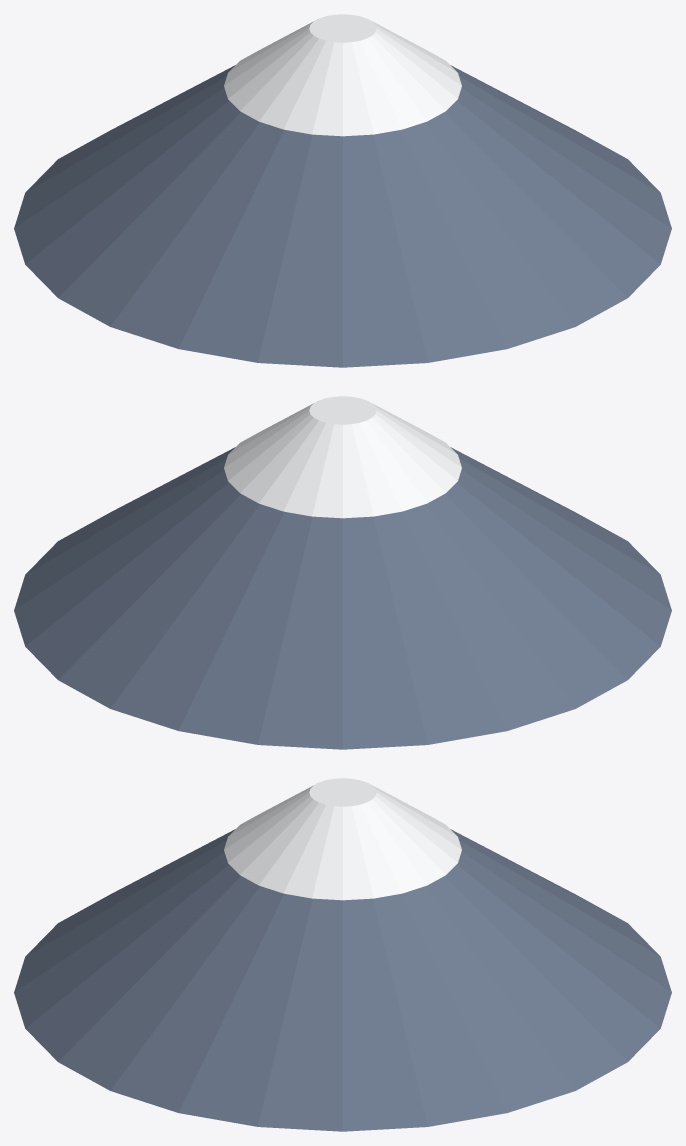
File: japan.glb
The picture shows the model from 3 angles, top to bottom: view 1: azimuth 30°, elevation 25°; view 2: azimuth 150°, elevation 25°; view 3: azimuth 270°, elevation 25°; orthographic projection.
Parts seen in each view (by area): view 1: Mountain, SnowCap; view 2: Mountain, SnowCap; view 3: Mountain, SnowCap.
Boxes of the visible parts, x1,y1,x2,y2 form: Mountain: [14, 65, 671, 367]; SnowCap: [224, 14, 461, 136]; Mountain: [14, 447, 671, 749]; SnowCap: [224, 396, 461, 518]; Mountain: [14, 829, 671, 1131]; SnowCap: [224, 778, 461, 900].
Size of the model in its own units: 84 by 28.21 by 84.
